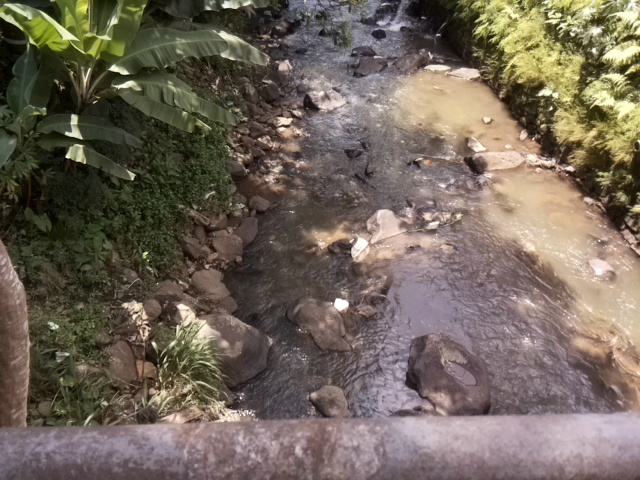Sampah_Plastik: (352, 238, 372, 261)
Sampah_Styrofoam: (333, 294, 350, 315)
